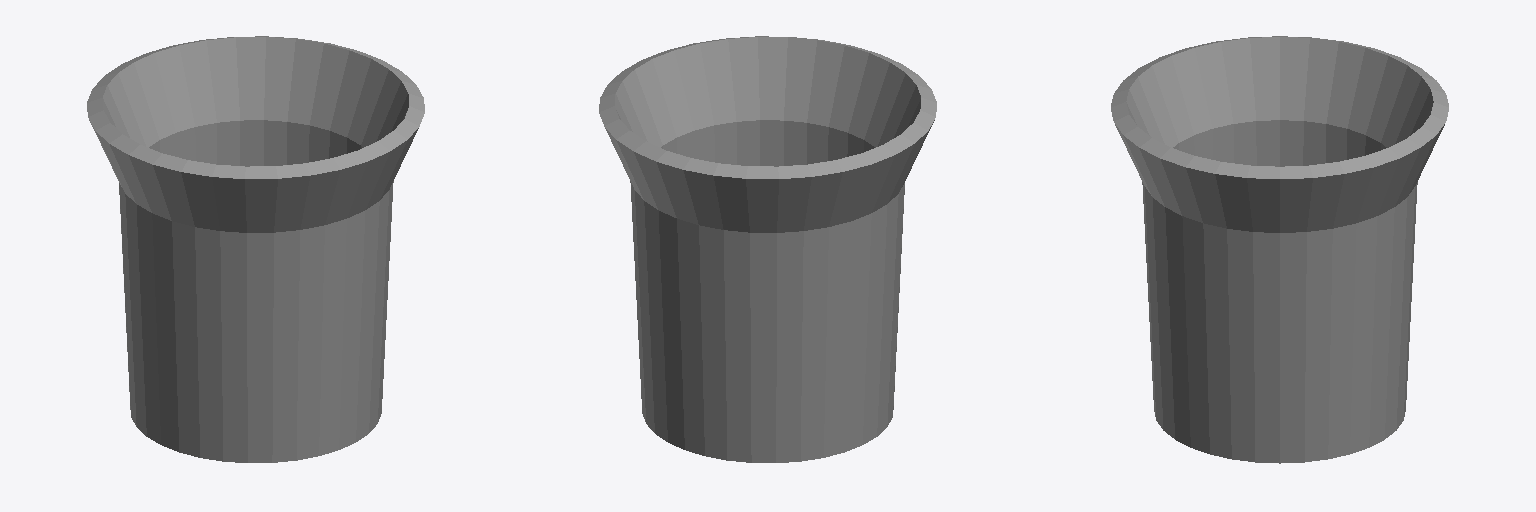
The model's file is cup.obj.
3 views of the same model, side by side, from view 1: azimuth 30°, elevation 25°; view 2: azimuth 150°, elevation 25°; view 3: azimuth 270°, elevation 25° (orthographic).
Parts seen in each view (by area): view 1: Cylinder; view 2: Cylinder; view 3: Cylinder.
Boxes of the visible parts, <box> form: Cylinder: <box>87,36,424,462</box>; Cylinder: <box>599,36,936,462</box>; Cylinder: <box>1111,36,1448,463</box>.
Bounding box in the file's own units: 1.01 × 1.01 × 1.01.